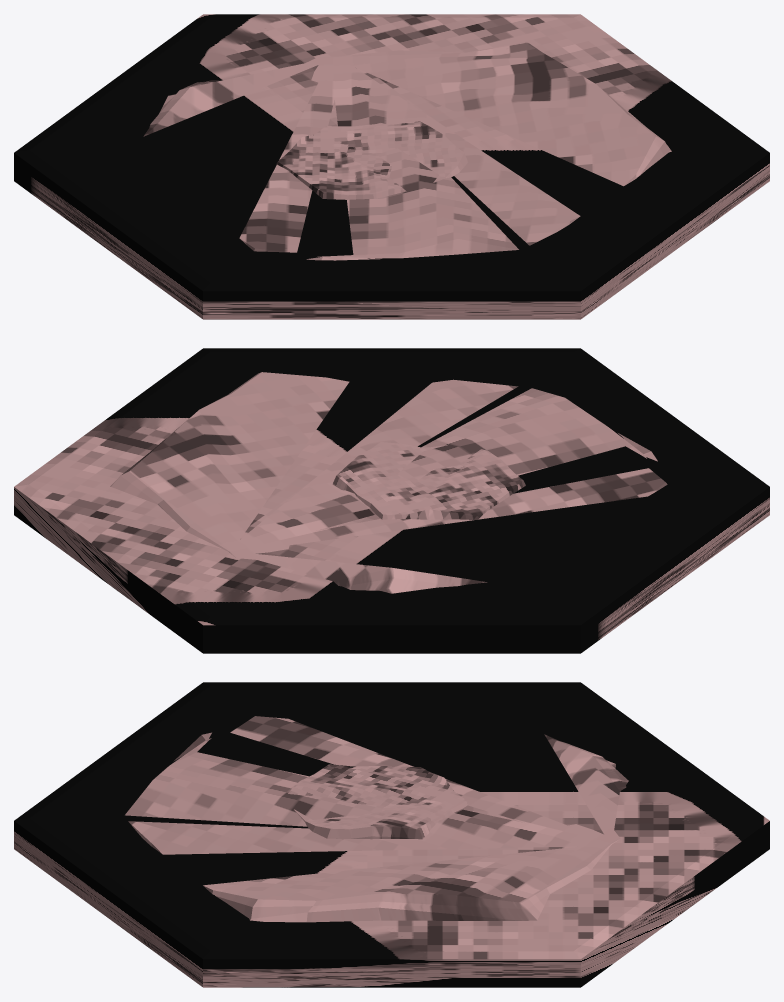
Rendered from Coral Hex.fbx.
3 renders of one model, top to bottom at view 1: azimuth 30°, elevation 25°; view 2: azimuth 150°, elevation 25°; view 3: azimuth 270°, elevation 25°, orthographic.
Visible parts, largest first — view 1: TexturesCom_Branches0030_1_S.001; view 2: TexturesCom_Branches0030_1_S.001; view 3: TexturesCom_Branches0030_1_S.001.
Boxes of the visible parts, x1,y1,x2,y2 form: TexturesCom_Branches0030_1_S.001: [14, 14, 769, 319]; TexturesCom_Branches0030_1_S.001: [14, 348, 769, 653]; TexturesCom_Branches0030_1_S.001: [14, 682, 769, 987].
Bounding box in the file's own units: 173 × 23.18 × 200.
Materials: 2 (2 with a texture image).
